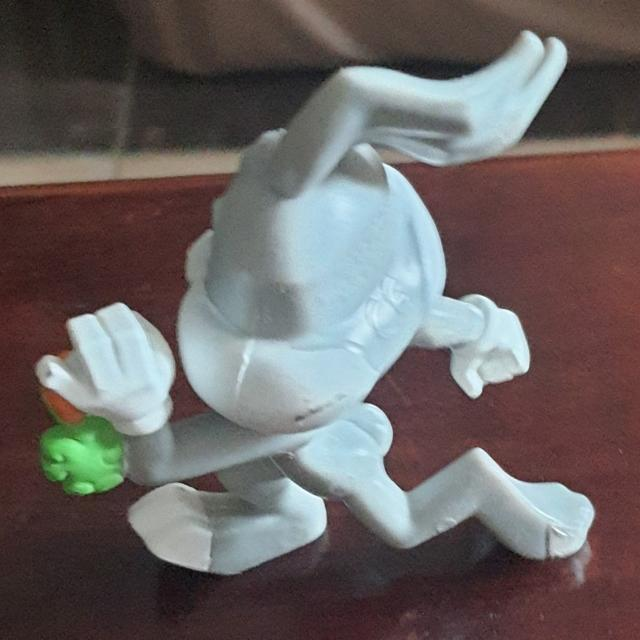Rabbit: (35, 29, 596, 577)
